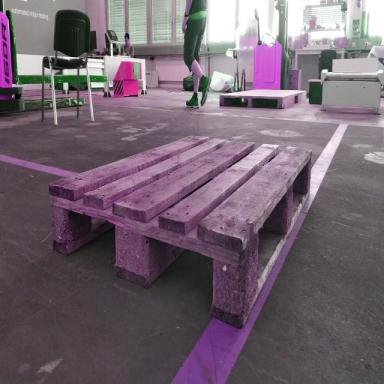pallet: (48, 135, 312, 329), (219, 90, 307, 110)
